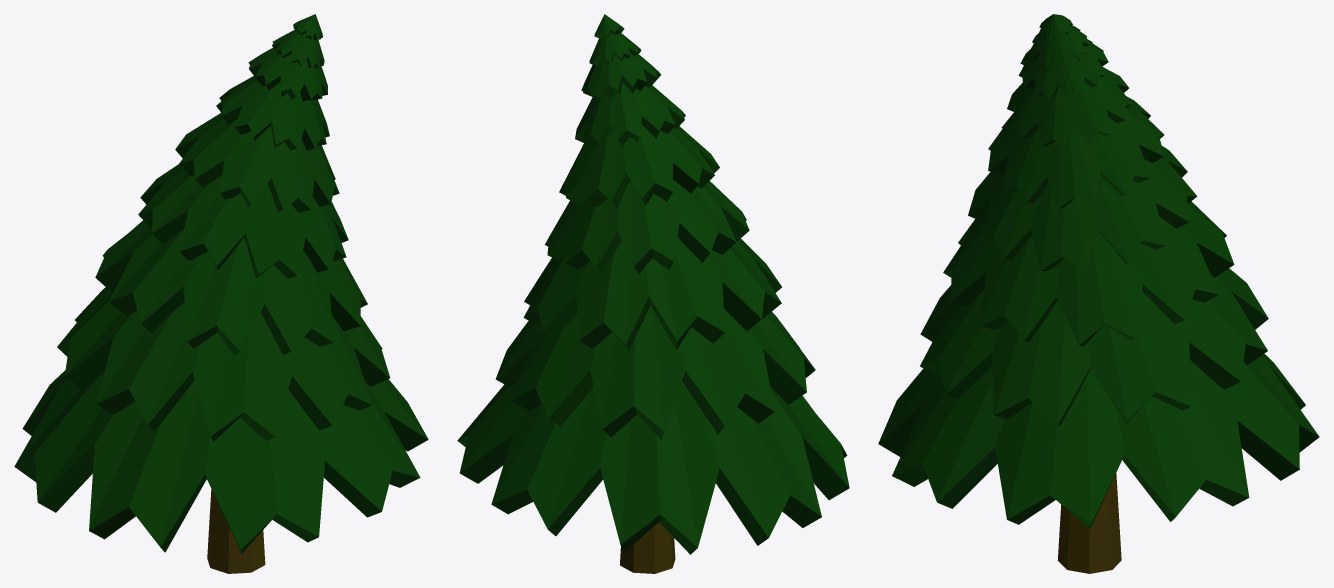
Rendered from tree.glb.
3 views of the same model, side by side, from view 1: azimuth 30°, elevation 25°; view 2: azimuth 150°, elevation 25°; view 3: azimuth 270°, elevation 25° (orthographic). The views are drawn at different scales.
Parts seen in each view (by area): view 1: Cylinder.010, Cylinder.002; view 2: Cylinder.010, Cylinder.002; view 3: Cylinder.010, Cylinder.002.
Boxes of the visible parts, x1,y1,x2,y2 form: Cylinder.010: (14,14,428,553); Cylinder.002: (207,489,265,573); Cylinder.010: (457,14,849,554); Cylinder.002: (620,130,675,573); Cylinder.010: (878,14,1319,528); Cylinder.002: (1057,473,1121,573).
Size of the model in its own units: 5.78 by 8.37 by 5.79.
